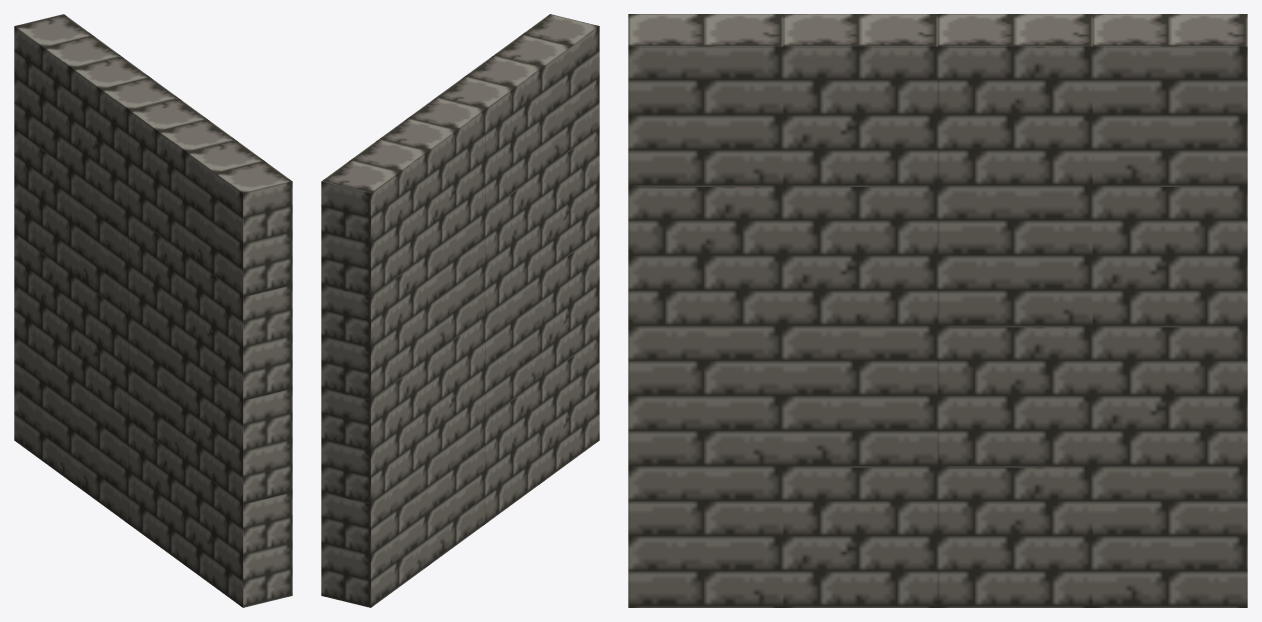
File: Wall_Mid_x4_Tall.glb
3 renders of one model, left to right at view 1: azimuth 30°, elevation 25°; view 2: azimuth 150°, elevation 25°; view 3: azimuth 270°, elevation 25°, orthographic. The views are drawn at different scales.
Visible parts, largest first — view 1: Wall_Mid_x4_Tall; view 2: Wall_Mid_x4_Tall; view 3: Wall_Mid_x4_Tall.
Boxes of the visible parts, box(x1,y1,x2,y2) form: Wall_Mid_x4_Tall: box(14, 14, 292, 607); Wall_Mid_x4_Tall: box(321, 14, 599, 607); Wall_Mid_x4_Tall: box(628, 14, 1247, 607).
Size of the model in its own units: 1 by 8 by 8.
Materials: 1 (1 with a texture image).
